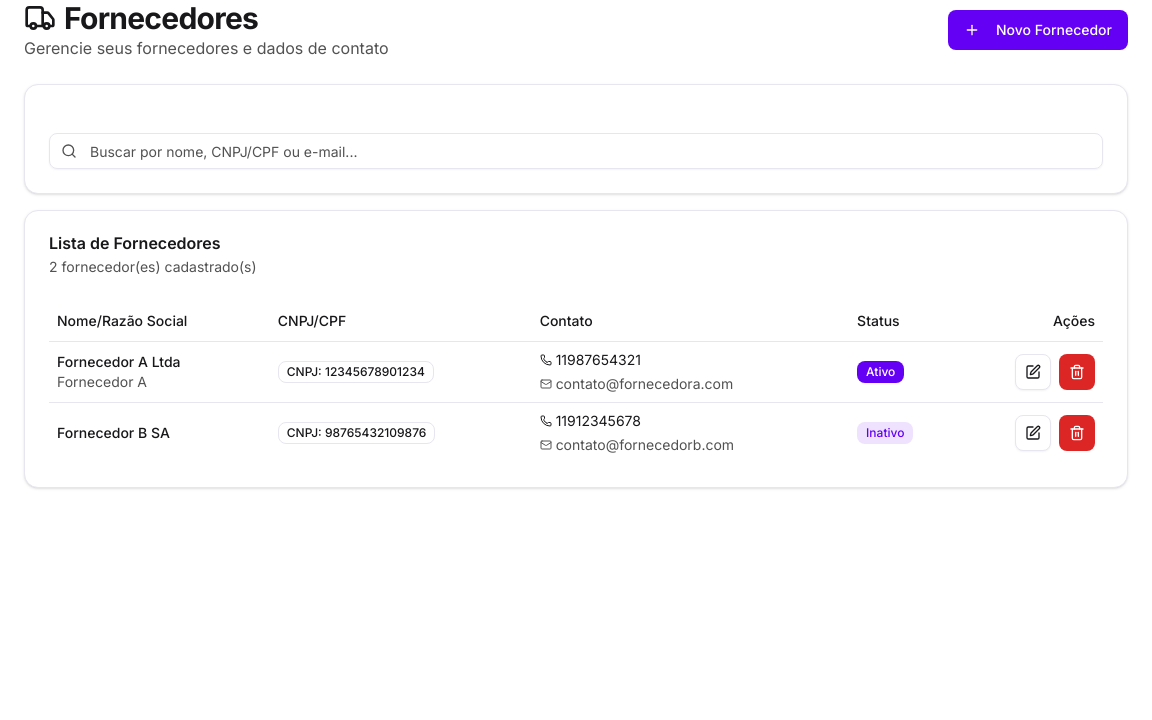
it: SuppliersPage › opens form dialog when clicking new supplier button
Click the button "Novo Fornecedor". click: click(1038, 30)
box: [948,10,1128,50]
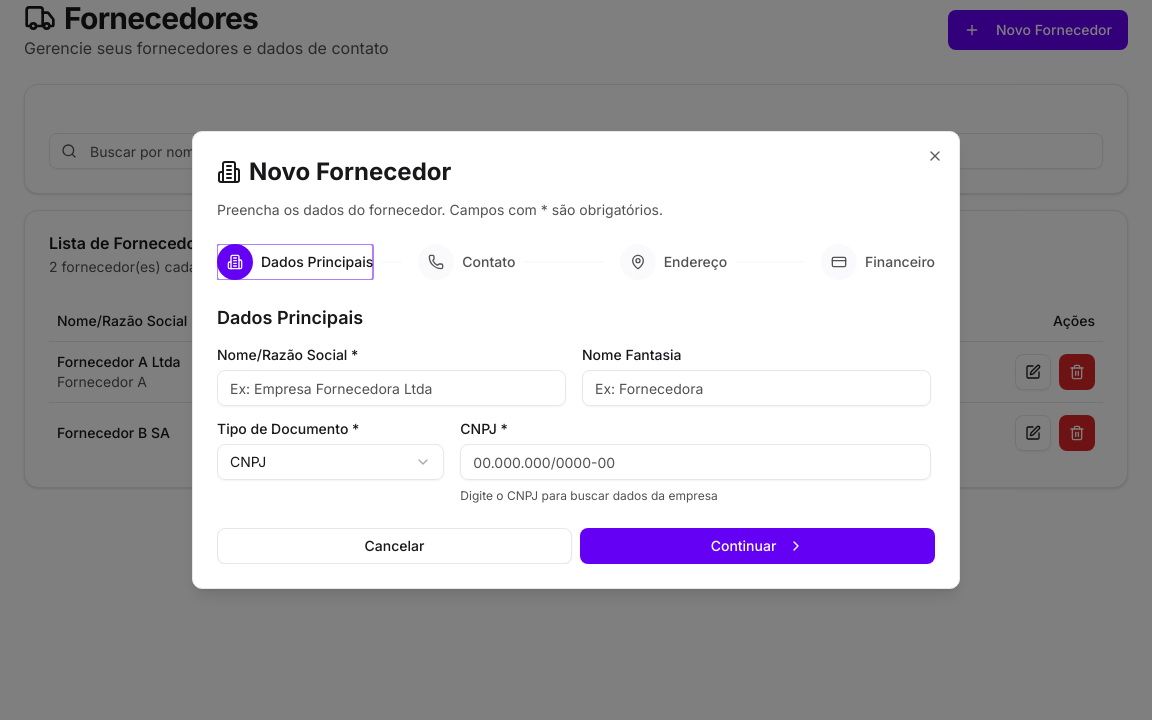
Check: the dialog is shown, box [192,131,960,589]
Check: the heading "Novo Fornecedor" is shown, box [217,157,451,186]
